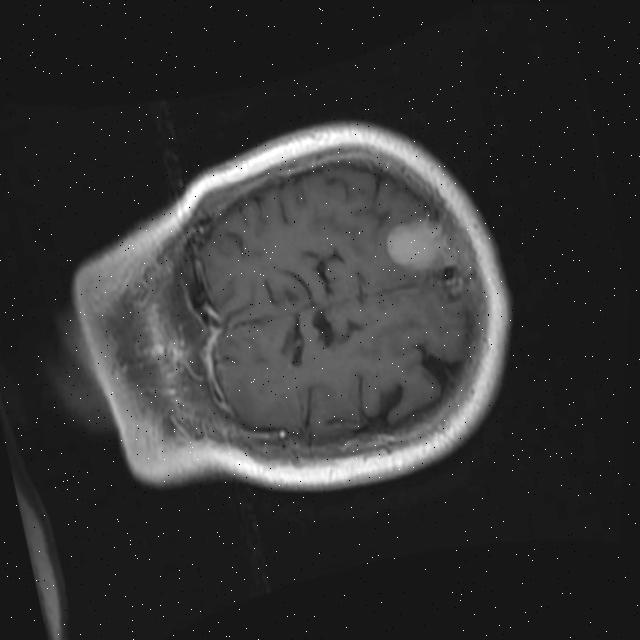Meningioma: (377, 207, 456, 280)
